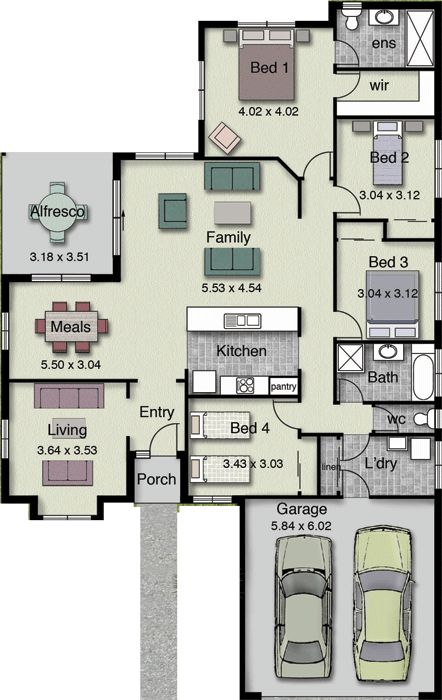door: (338, 184, 366, 214), (339, 436, 367, 466), (147, 422, 179, 447), (304, 150, 332, 176), (338, 38, 362, 66), (270, 398, 294, 426), (338, 311, 362, 339), (337, 70, 361, 98), (339, 465, 363, 493), (337, 374, 361, 402), (375, 409, 400, 431)
room: (110, 151, 302, 305), (196, 18, 337, 184), (1, 378, 133, 524), (183, 393, 321, 510), (1, 272, 140, 384), (330, 216, 442, 345), (330, 115, 442, 244), (183, 302, 303, 402), (315, 431, 442, 501), (330, 335, 442, 406), (330, 1, 442, 71), (330, 65, 442, 120), (371, 399, 442, 437)
window: (27, 271, 95, 287), (111, 174, 123, 260), (430, 135, 442, 202), (196, 57, 208, 124), (38, 510, 94, 524), (188, 491, 236, 507), (429, 436, 442, 493), (429, 344, 442, 401), (431, 258, 442, 325), (234, 18, 298, 29), (132, 151, 196, 162), (1, 415, 12, 464), (1, 308, 12, 353)
